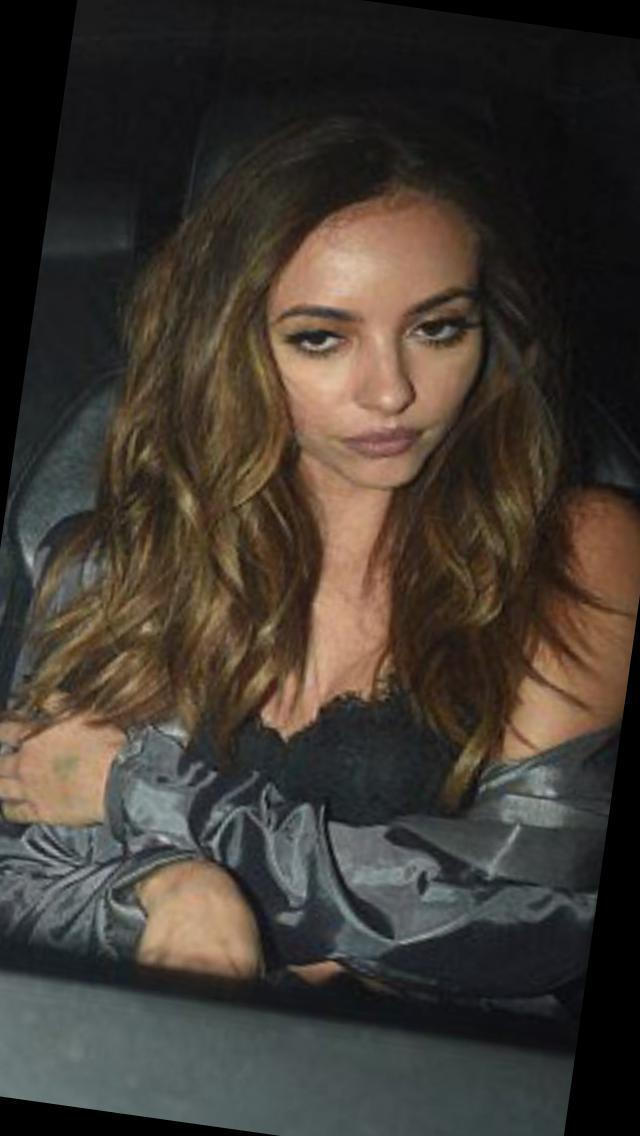Drunk: (286, 226, 481, 484)
